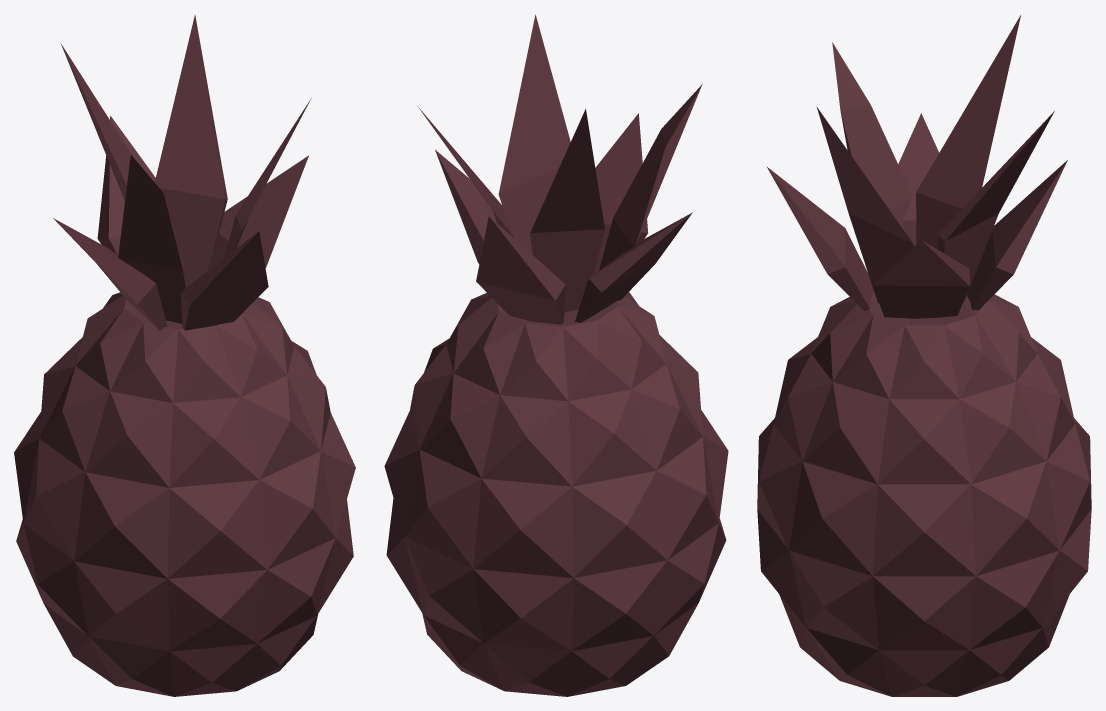
File: pineapple.fbx
3 views of the same model, side by side, from view 1: azimuth 30°, elevation 25°; view 2: azimuth 150°, elevation 25°; view 3: azimuth 270°, elevation 25° (orthographic).
Visible parts, largest first — view 1: pineapple; view 2: pineapple; view 3: pineapple.
Boxes of the visible parts, x1,y1,x2,y2 form: pineapple: [14, 14, 355, 696]; pineapple: [384, 14, 728, 696]; pineapple: [757, 15, 1091, 696].
Bounding box in the file's own units: 0.194 × 0.3779 × 0.1864.
